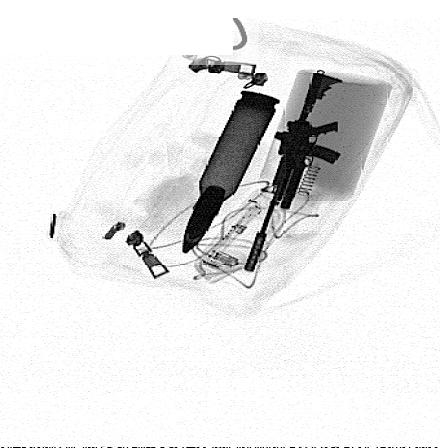Bullet: (180, 89, 281, 254)
Gun: (243, 73, 345, 271)
